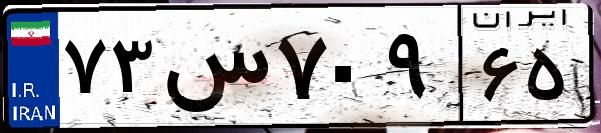0: (330, 28, 385, 110)
3: (110, 28, 158, 98)
5: (525, 38, 570, 115)
6: (475, 38, 525, 113)
7: (270, 28, 330, 110), (57, 26, 110, 100)
9: (385, 28, 445, 110)
س: (158, 20, 270, 120)
